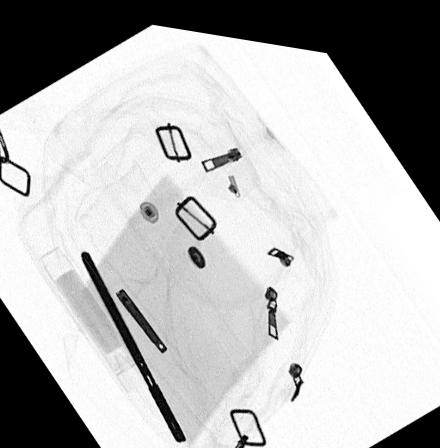Pliers: (79, 247, 186, 439)
